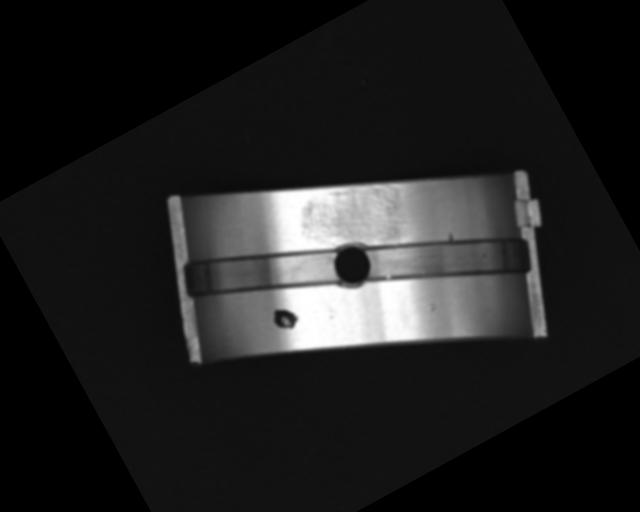blot: (267, 300, 302, 335)
bruise: (443, 230, 459, 246), (425, 301, 438, 314)
gap: (349, 179, 535, 344), (170, 188, 353, 351)
hole: (321, 233, 385, 298)
scratch: (286, 158, 421, 283)
